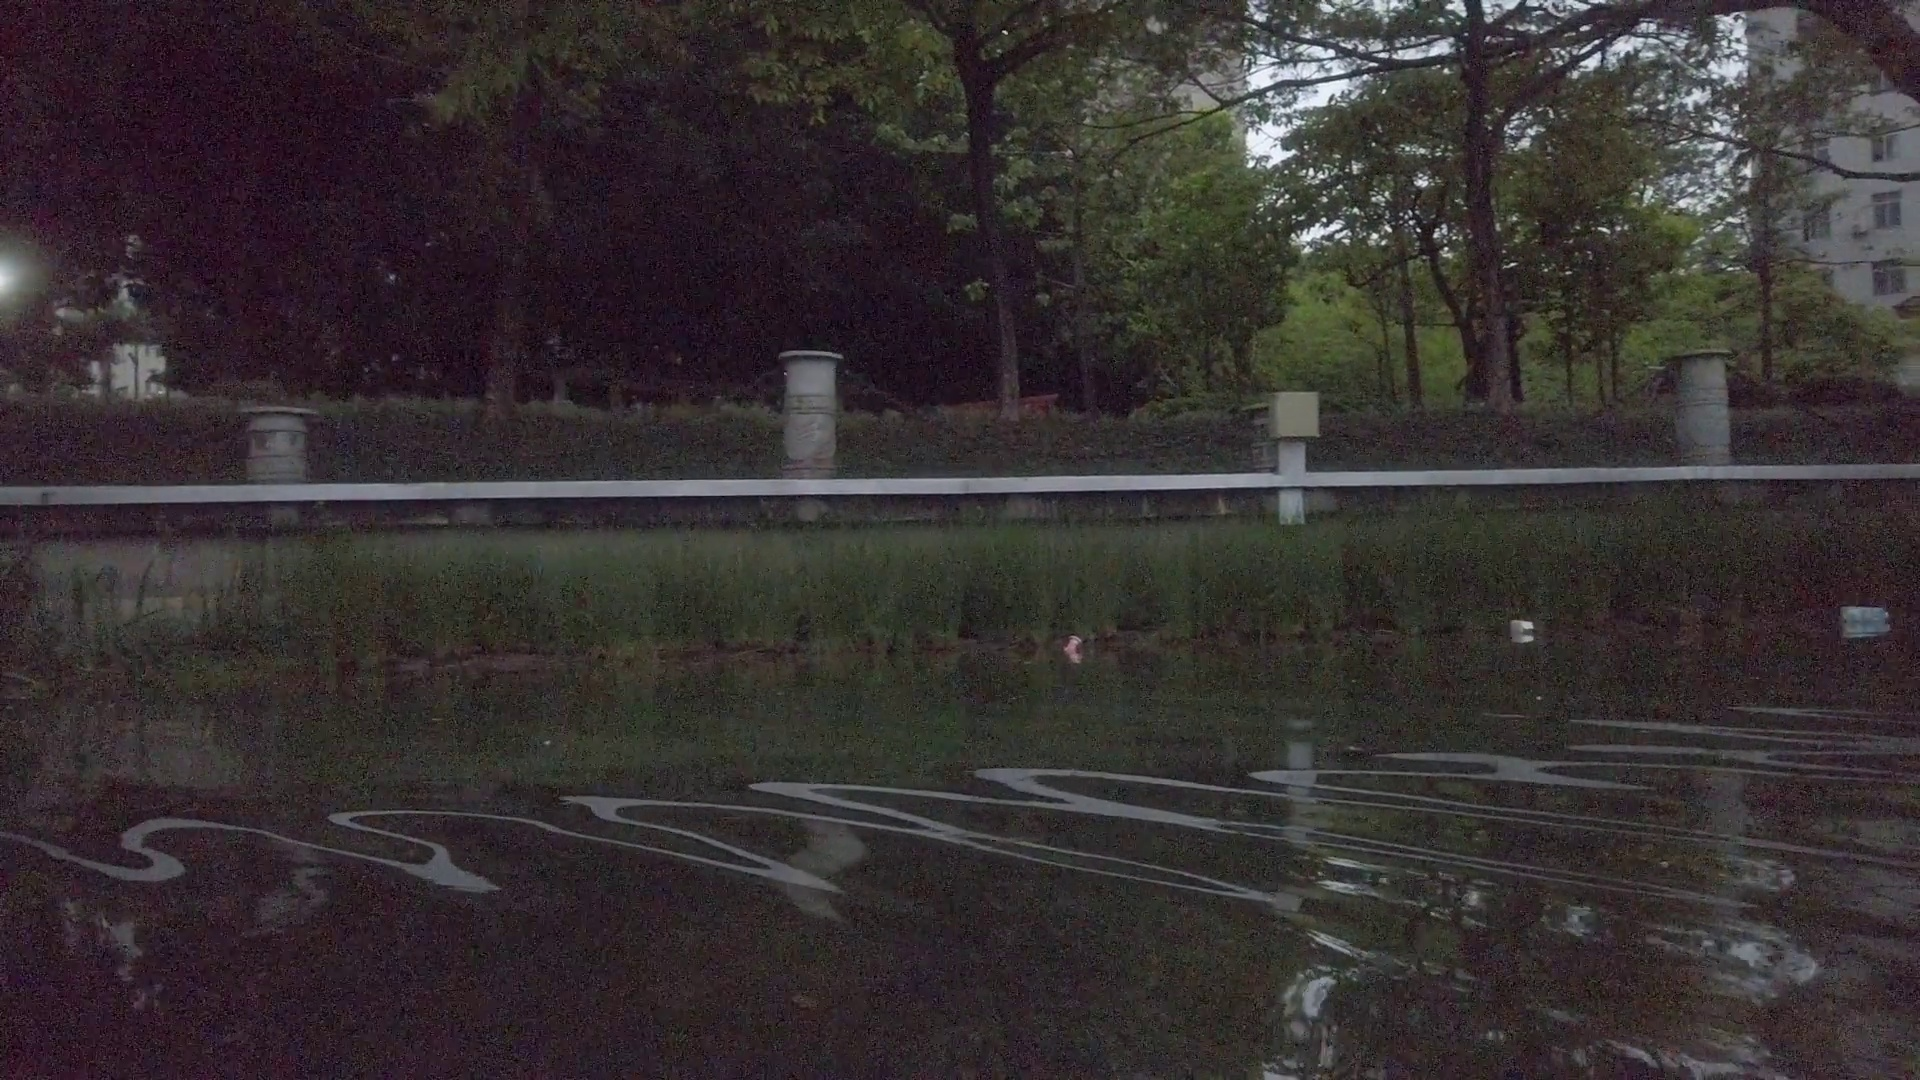bottle: (1063, 630, 1084, 657)
carton: (1844, 604, 1888, 626), (1510, 620, 1534, 636)
